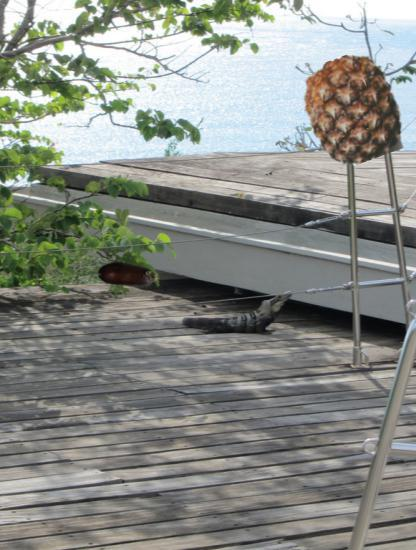Eggplant: (97, 242, 163, 308)
Pineapple: (299, 56, 407, 164)
